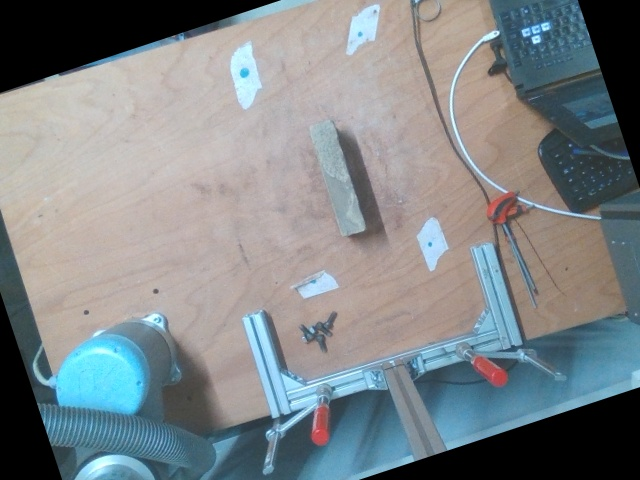brick-side: (310, 119, 365, 234)
